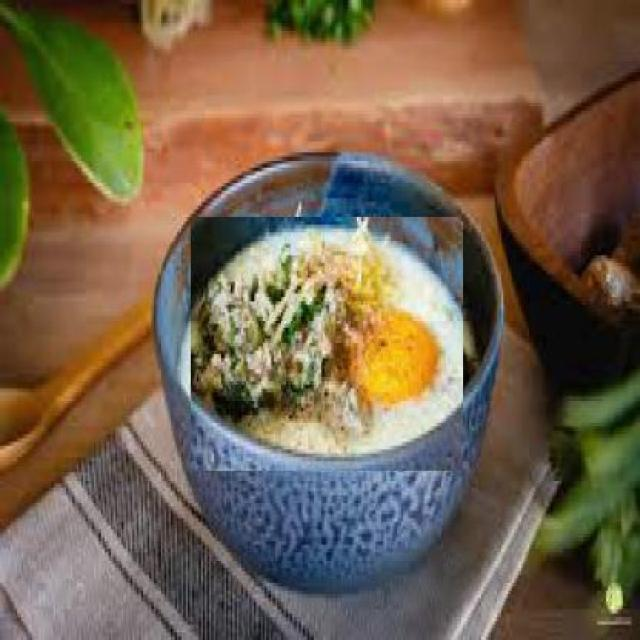Jok: (190, 217, 464, 472)
